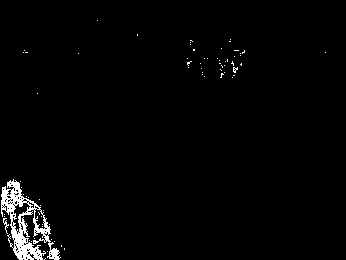person: (1, 177, 64, 260)
